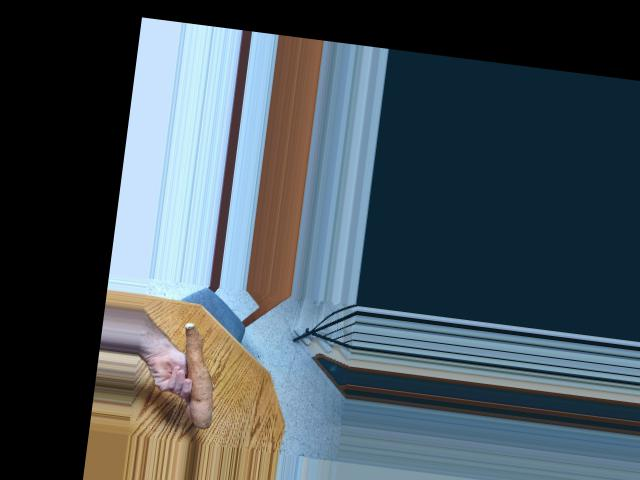sweet_potato: (168, 320, 226, 427)
